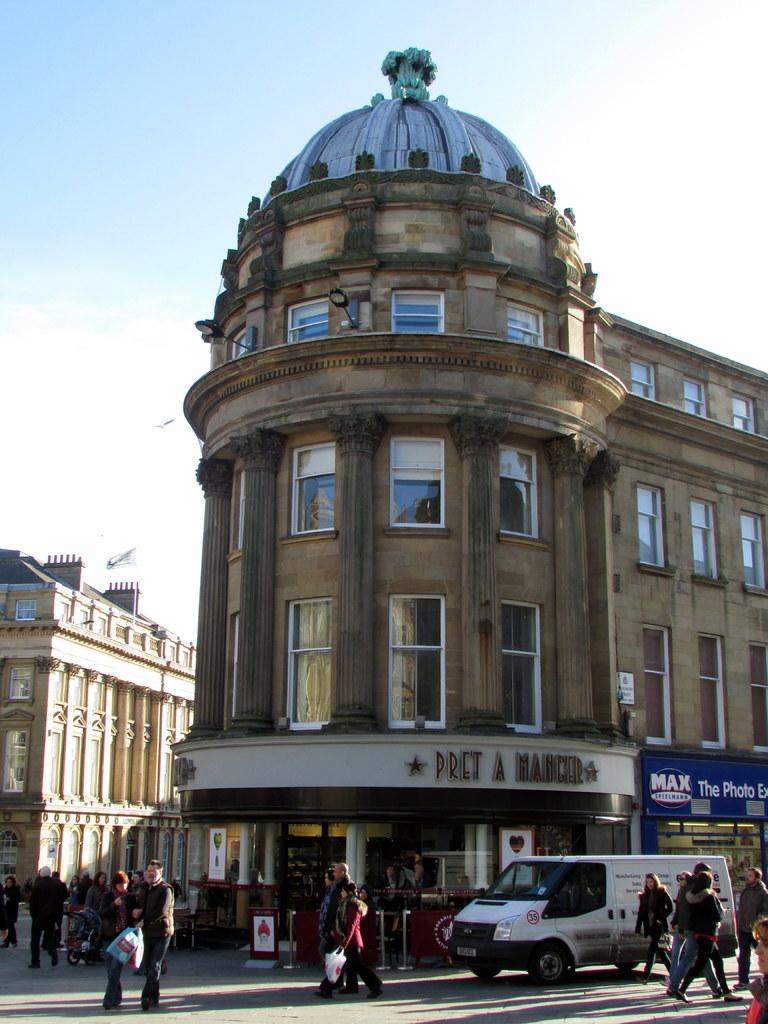vehicle: (450, 856, 736, 986)
